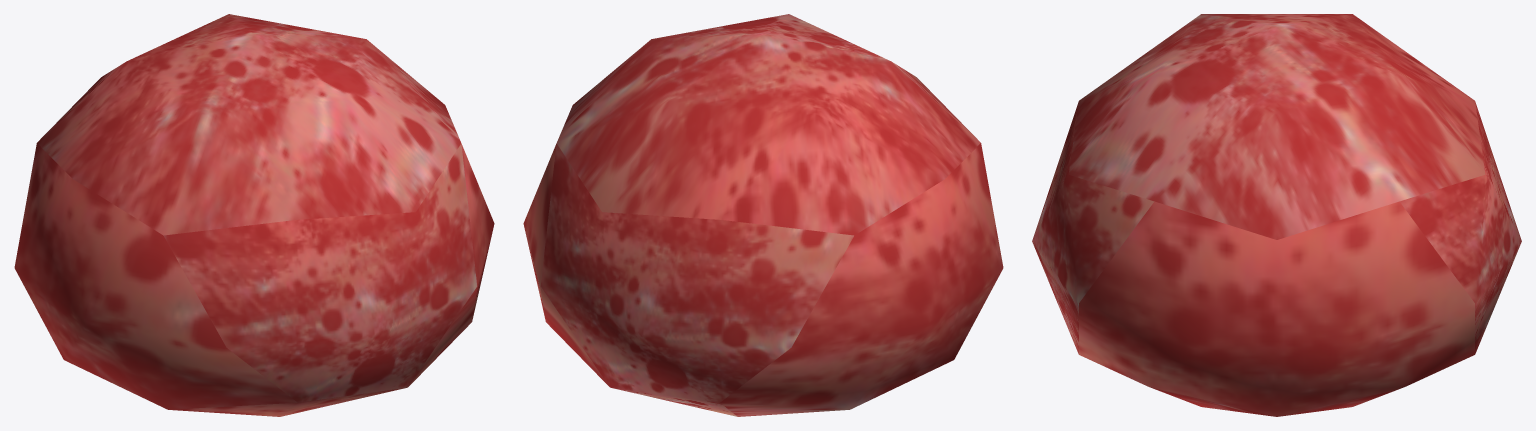
Rendered from gib.glb.
3 views of the same model, side by side, from view 1: azimuth 30°, elevation 25°; view 2: azimuth 150°, elevation 25°; view 3: azimuth 270°, elevation 25° (orthographic).
Parts seen in each view (by area): view 1: Icosphere; view 2: Icosphere; view 3: Icosphere.
Part boxes in pixels (box(x1,y1,x2,y2)): Icosphere: box(14, 14, 494, 416); Icosphere: box(523, 14, 1003, 416); Icosphere: box(1032, 14, 1521, 416).
Bounding box in the file's own units: 1.25 × 0.9737 × 1.28.
1 material, 1 textured.
